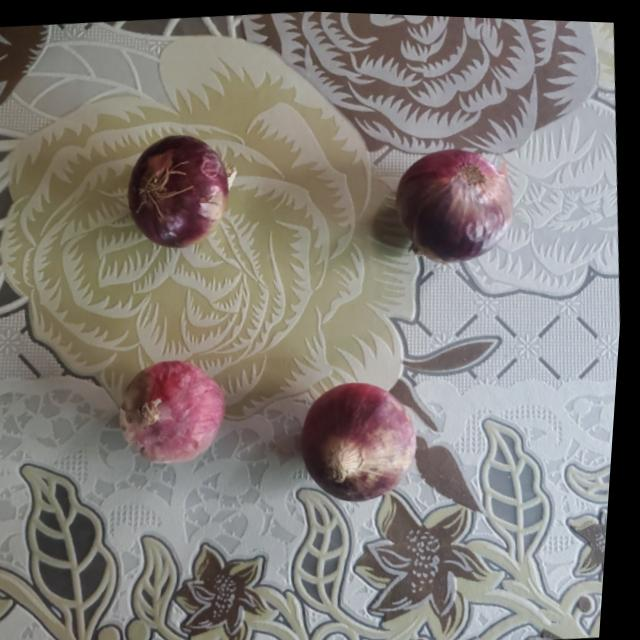onion: (297, 372, 426, 502), (397, 138, 525, 263), (123, 131, 239, 253), (122, 351, 239, 463)
